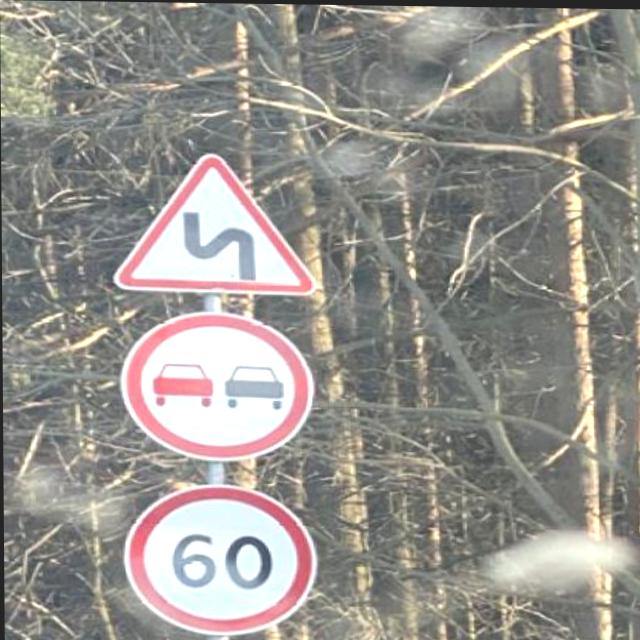limit60: (109, 477, 321, 640)
